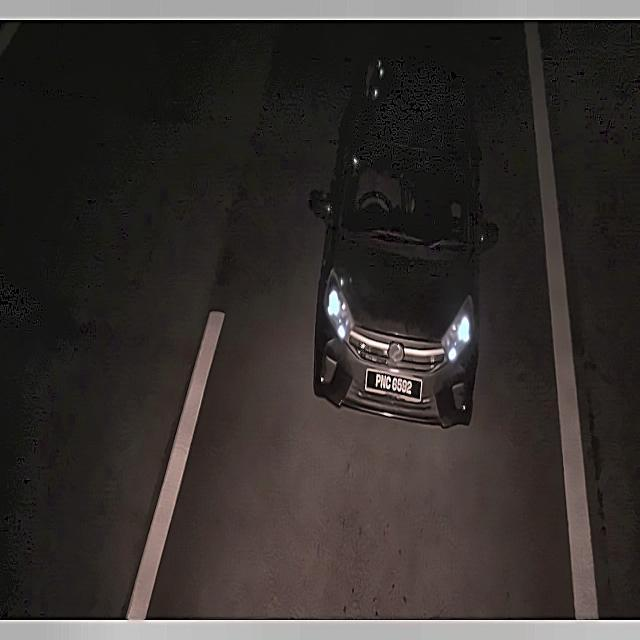car: (362, 364, 423, 411)
